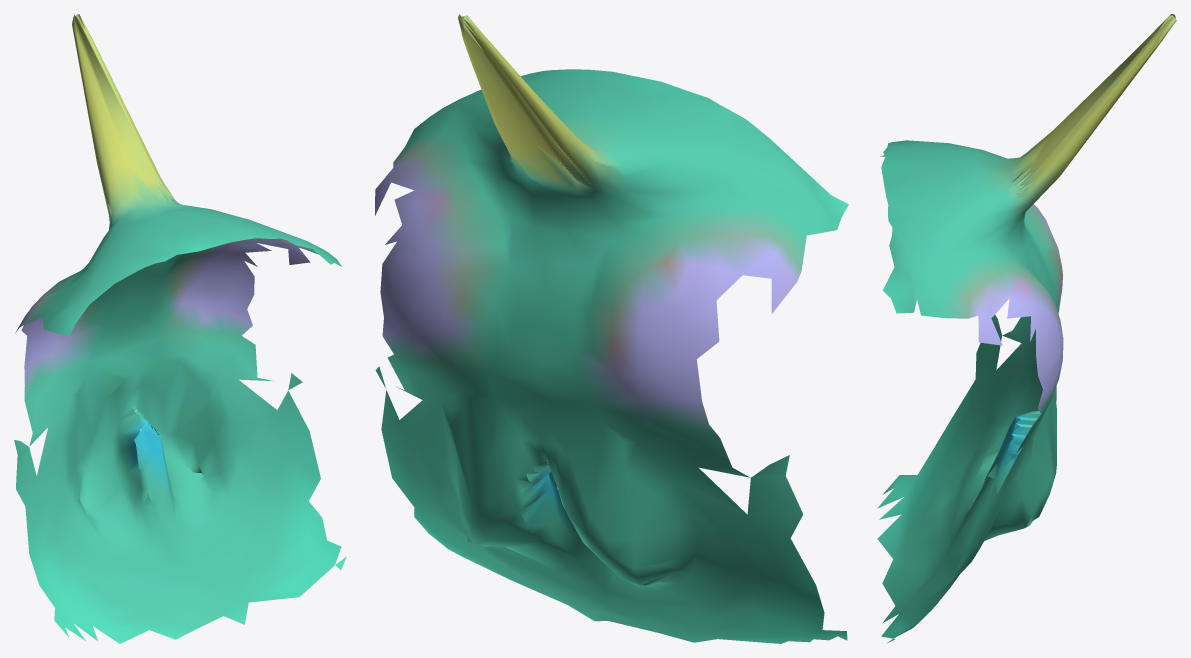
Rendered from Cabeza.obj.
3 views of the same model, side by side, from view 1: azimuth 30°, elevation 25°; view 2: azimuth 150°, elevation 25°; view 3: azimuth 270°, elevation 25° (orthographic). The views are drawn at different scales.
Visible parts, largest first — view 1: Cabeza; view 2: Cabeza; view 3: Cabeza.
Part boxes in pixels (x1,y1,x2,y2): Cabeza: (14,14,346,643); Cabeza: (375,14,848,643); Cabeza: (877,14,1176,642).
Bounding box in the file's own units: 31.66 × 53.68 × 24.83.
